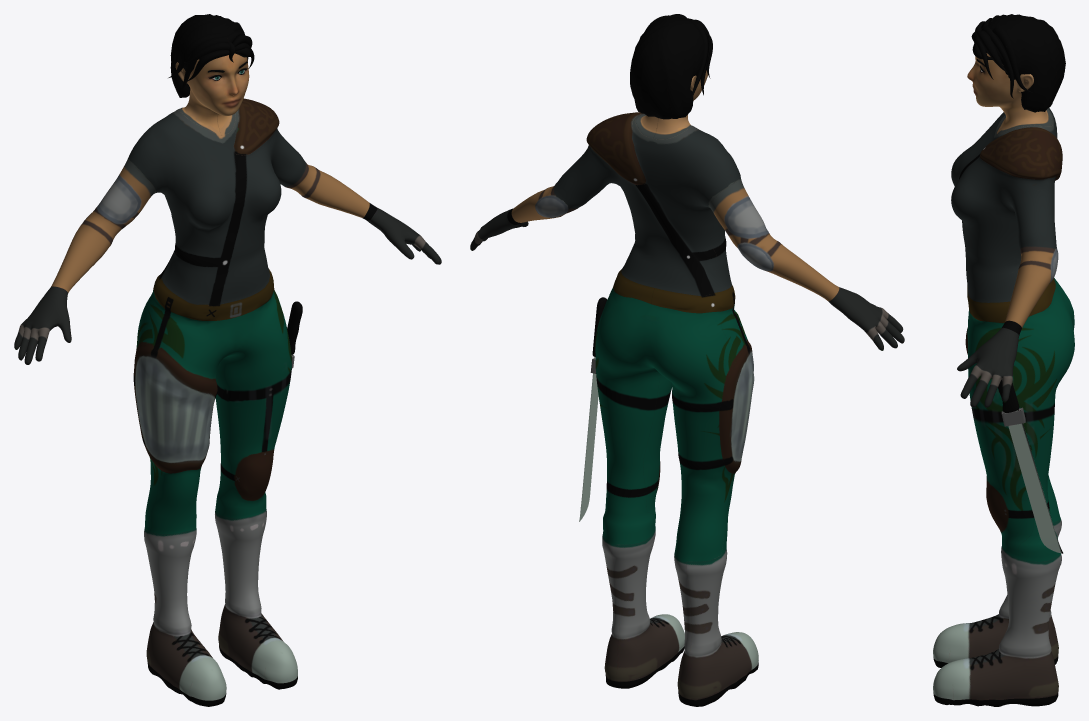
Rendered from Heroine.fbx.
3 renders of one model, left to right at view 1: azimuth 30°, elevation 25°; view 2: azimuth 150°, elevation 25°; view 3: azimuth 270°, elevation 25°, orthographic. The views are drawn at different scales.
Parts seen in each view (by area): view 1: Character; view 2: Character; view 3: Character.
Part boxes in pixels (left/top/right/bottom): Character: left=14, top=14, right=441, bottom=706; Character: left=470, top=14, right=904, bottom=706; Character: left=933, top=14, right=1074, bottom=706.
Size of the model in its own units: 5893 by 8813 by 1705.
1 material, 1 textured.
